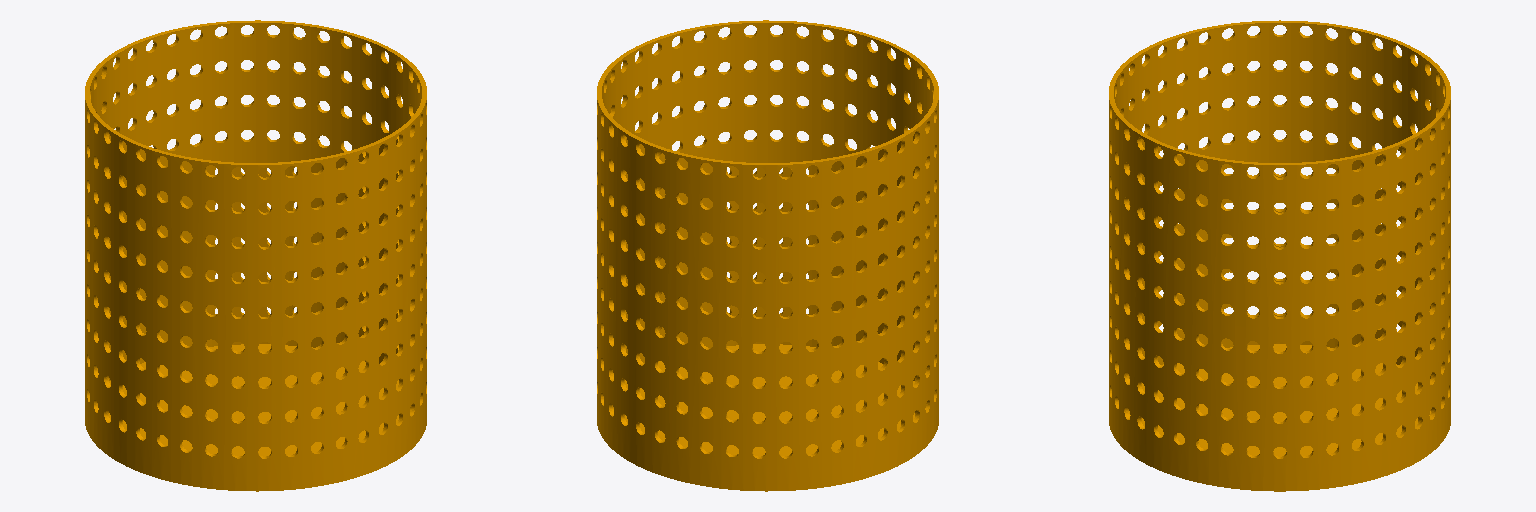
robot.urdf — bin:
<?xml version="1.0" ?>
<robot name="bin">

<material name="silver">
  <color rgba="0.700 0.700 0.700 1.000"/>
</material>

<link name="base_link">
  <inertial>
    <origin xyz="3.1729425329795976e-12 -1.0759031648338314e-11 0.0821207117516375" rpy="0 0 0"/>
    <mass value="3.3306200306822658"/>
    <inertia ixx="0.029908308246302445" iyy="0.029908308247975544" izz="0.028842040628059794" ixy="3.391198406347926e-12" iyz="-8.055687472696002e-13" ixz="3.6990676760260784e-13"/>
  </inertial>
  <visual>
    <origin xyz="0 0 0" rpy="0 0 0"/>
    <geometry>
      <mesh filename="meshes/base_link.stl" scale="0.001 0.001 0.001"/>
    </geometry>
    <material name="silver"/>
    <material/>
  </visual>
  <collision>
    <origin xyz="0 0 0" rpy="0 0 0"/>
    <geometry>
      <mesh filename="meshes/decomp.obj" scale="0.01 0.01 0.01"/>
    </geometry>
  </collision>
</link>

</robot>

--- What the picture shows (computed from the rendered views, not written in the file) ---
3 views of the same robot in one strip: view 1: azimuth 30°, elevation 25°; view 2: azimuth 150°, elevation 25°; view 3: azimuth 270°, elevation 25° (orthographic).
Robot: bin — 1 links, 0 joints (none); root link base_link; default pose: every joint at zero.
Links seen in each view (by area): view 1: base_link; view 2: base_link; view 3: base_link.
Boxes of the visible links, x1=… form: base_link: x1=85, y1=20, x2=426, y2=491; base_link: x1=597, y1=20, x2=938, y2=491; base_link: x1=1109, y1=20, x2=1450, y2=491.
Size in the robot's own frame: 0.2 by 0.2 by 0.21 metres.
Meshes: 1 distinct files referenced, 1 mesh visuals loaded (1 binary STL).